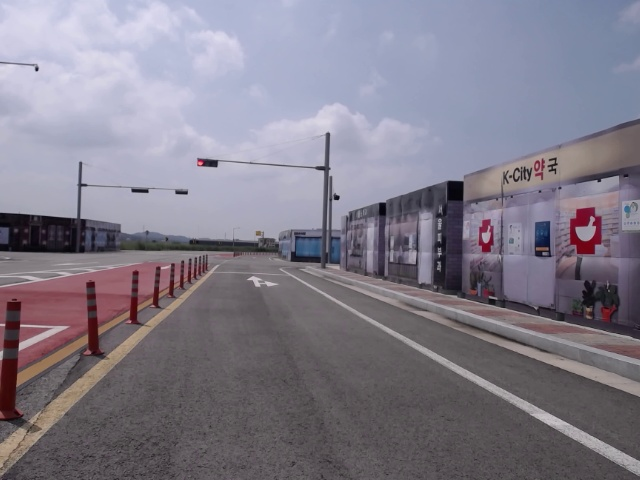red_3: (197, 159, 217, 167)
